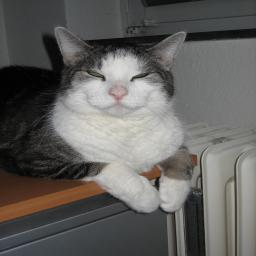catnose: (107, 84, 129, 100)
